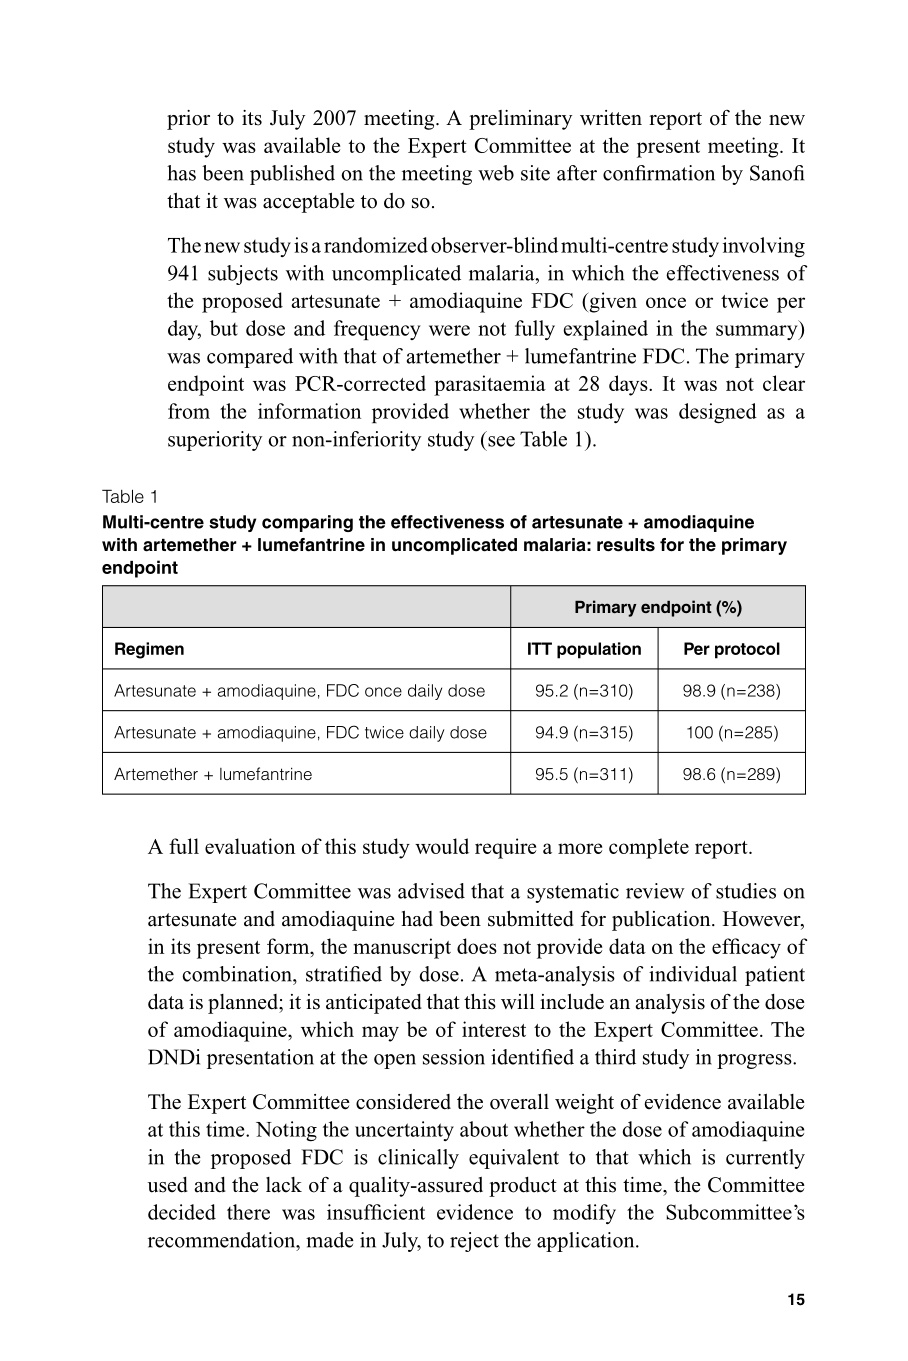merged_cells: (101, 584, 806, 795)
